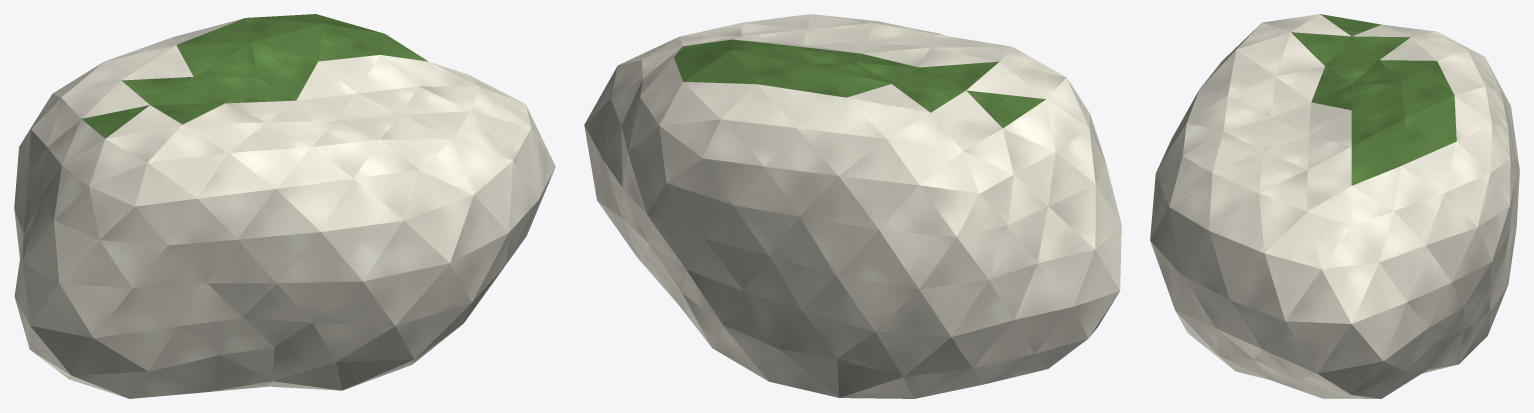
File: limestone_rock_c.fbx
3 renders of one model, left to right at view 1: azimuth 30°, elevation 25°; view 2: azimuth 150°, elevation 25°; view 3: azimuth 270°, elevation 25°, orthographic. The views are drawn at different scales.
Parts seen in each view (by area): view 1: limestone_rock_c_Rock; view 2: limestone_rock_c_Rock; view 3: limestone_rock_c_Rock.
Boxes of the visible parts, x1=… form: limestone_rock_c_Rock: x1=14, y1=14, x2=555, y2=398; limestone_rock_c_Rock: x1=584, y1=14, x2=1121, y2=398; limestone_rock_c_Rock: x1=1150, y1=14, x2=1519, y2=398.
Bounding box in the file's own units: 20 × 10.29 × 13.44.
Materials: 1 (1 with a texture image).
